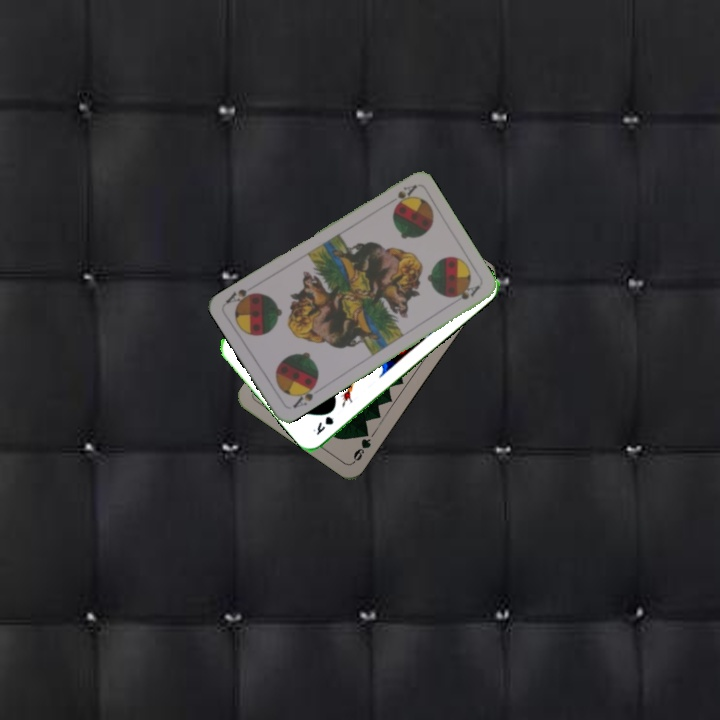G9: (349, 426, 374, 465)
GK: (308, 412, 336, 438)
SA: (382, 181, 419, 209), (289, 379, 319, 411)
